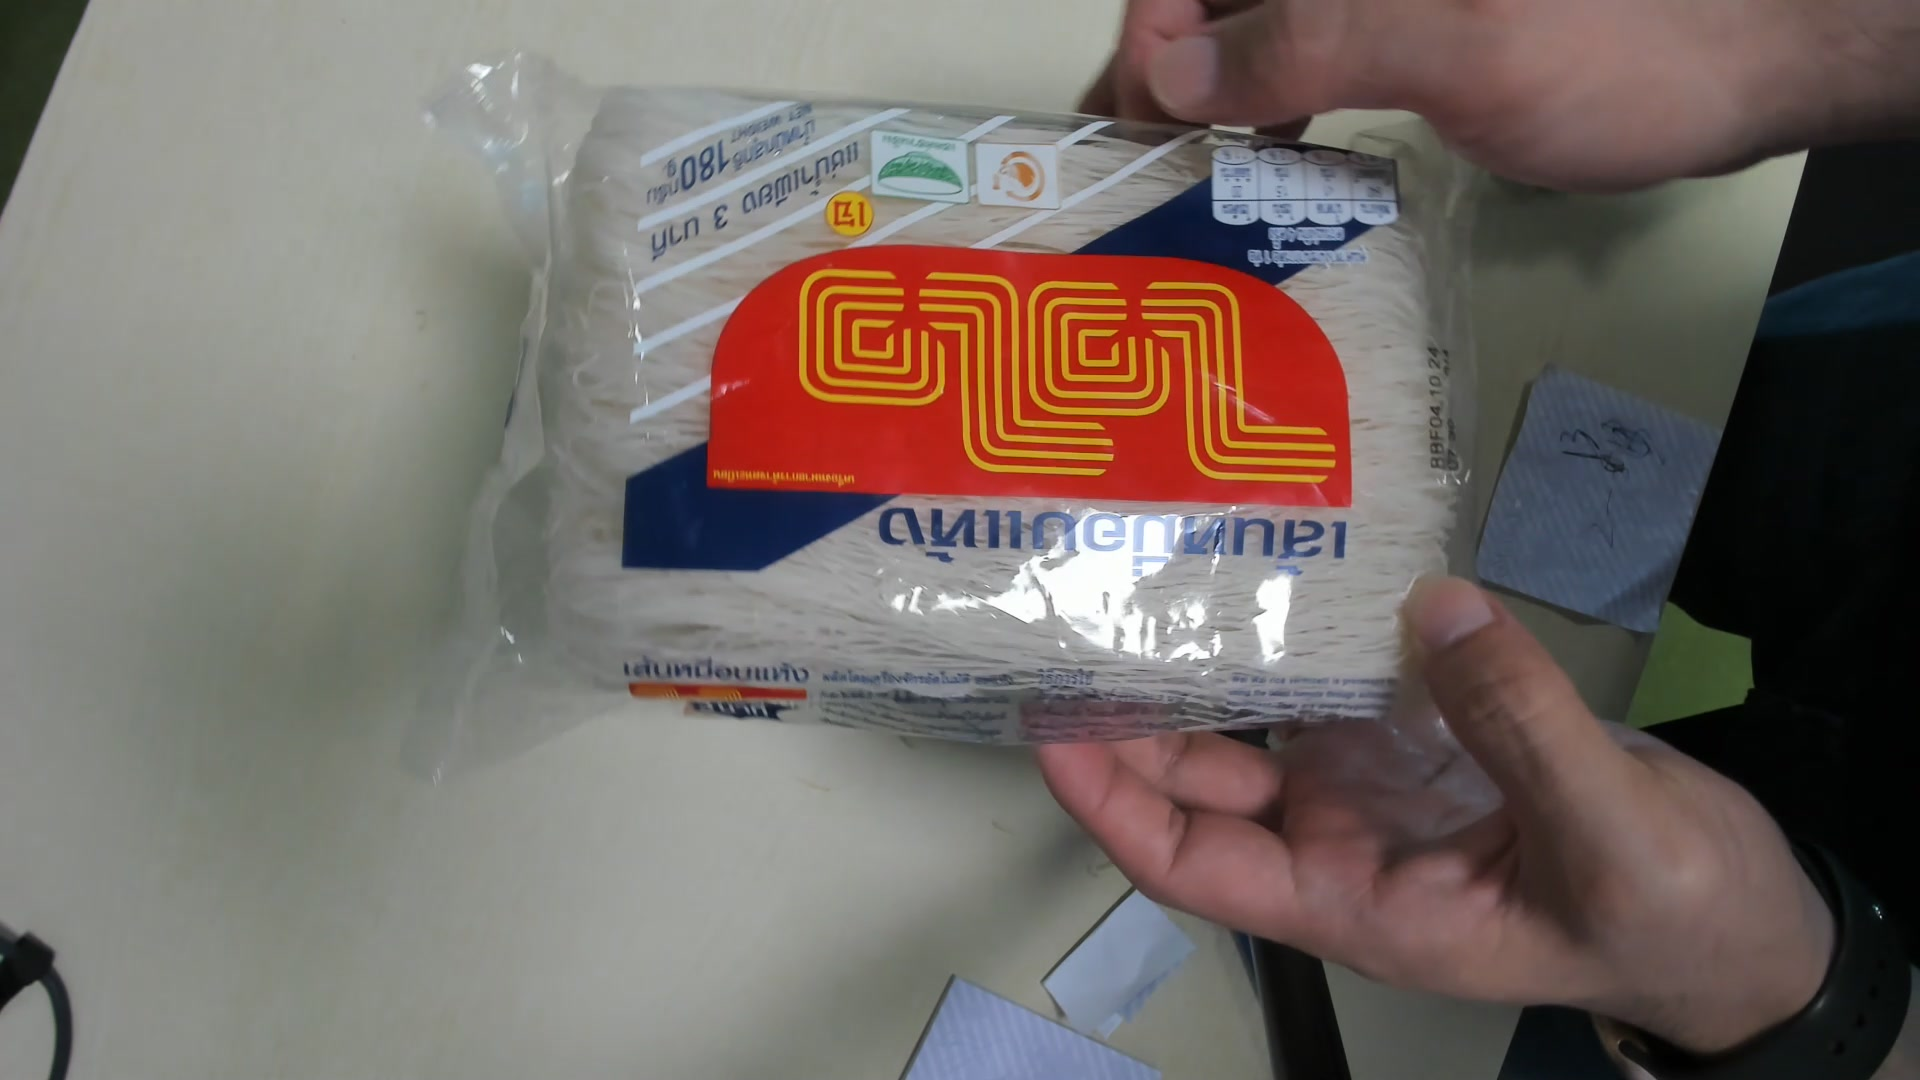BeeHoonVermicelli_100-199g_NonHalal_NonHealthy: (444, 50, 1461, 752)
